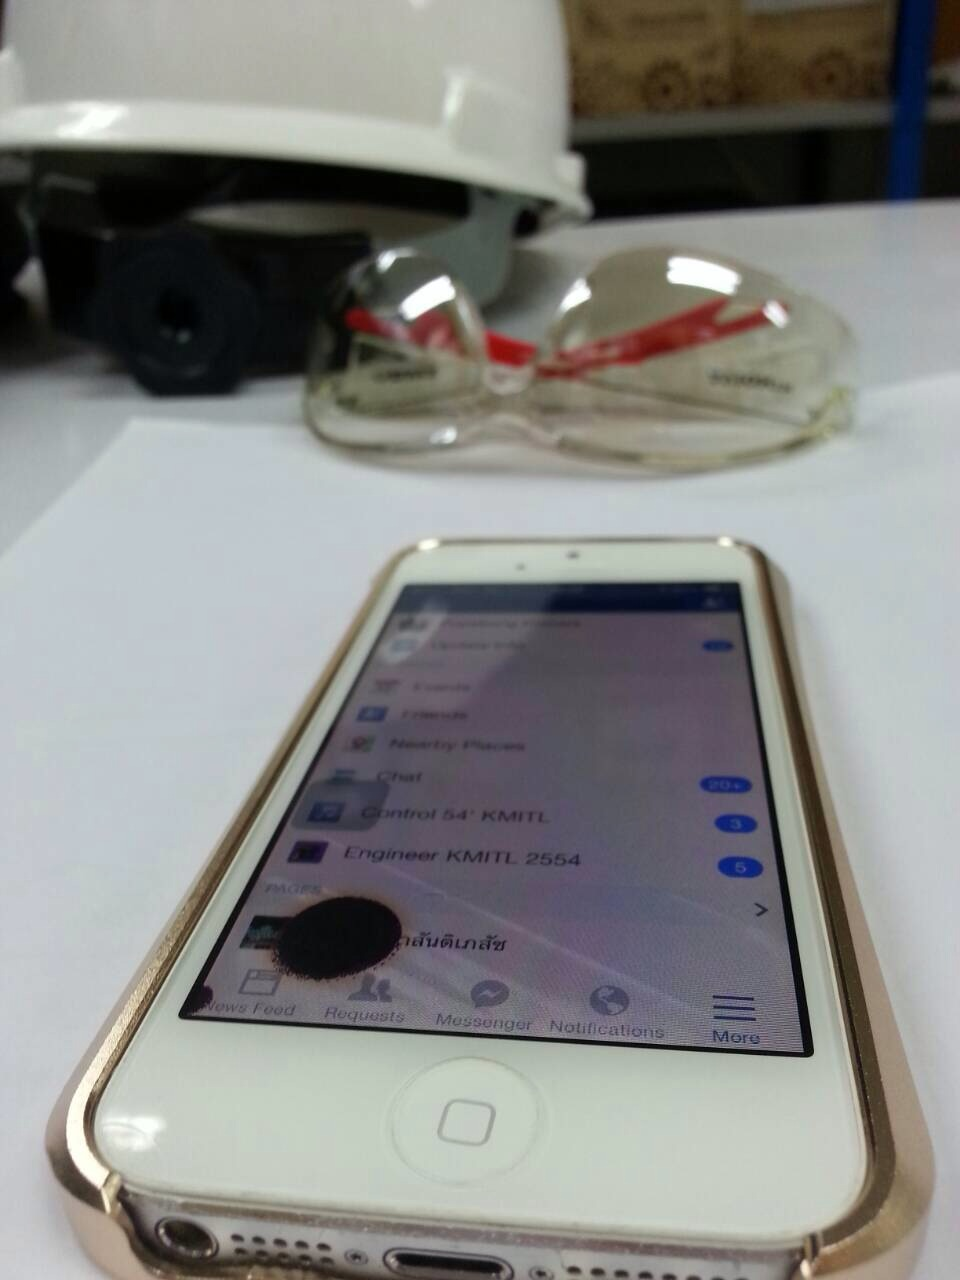Phone: (36, 527, 945, 1280)
